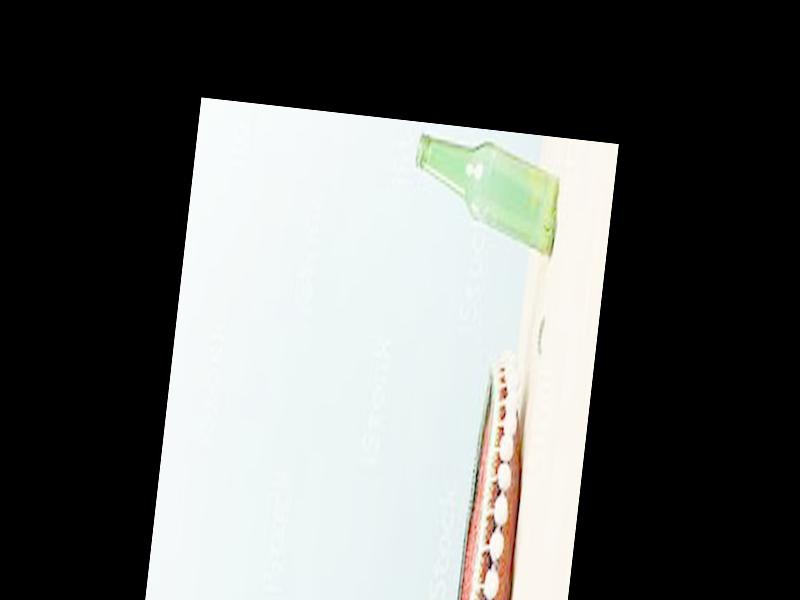Beer: (405, 136, 567, 259)
